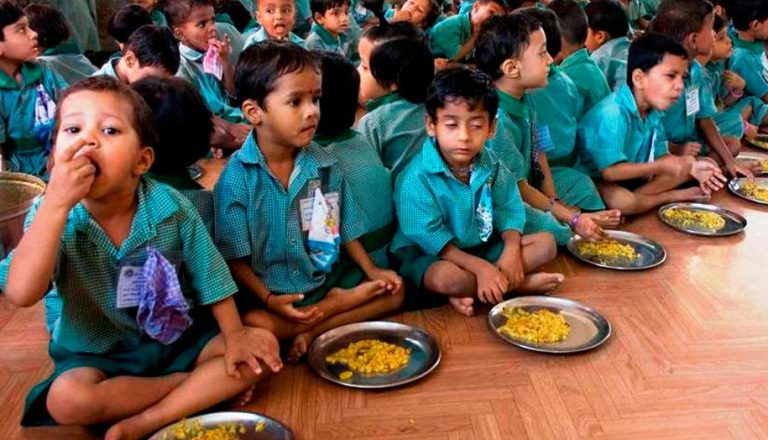student: (226, 42, 324, 144), (49, 83, 132, 198), (476, 13, 566, 93), (421, 75, 491, 166), (617, 26, 690, 108), (349, 28, 410, 106), (115, 29, 172, 85), (659, 1, 712, 58), (570, 1, 637, 43), (164, 1, 225, 47), (522, 2, 567, 62), (548, 1, 593, 48), (252, 1, 304, 39), (1, 4, 36, 52), (713, 15, 742, 64), (315, 1, 353, 35), (736, 1, 768, 39), (396, 2, 438, 28), (463, 6, 505, 28)
